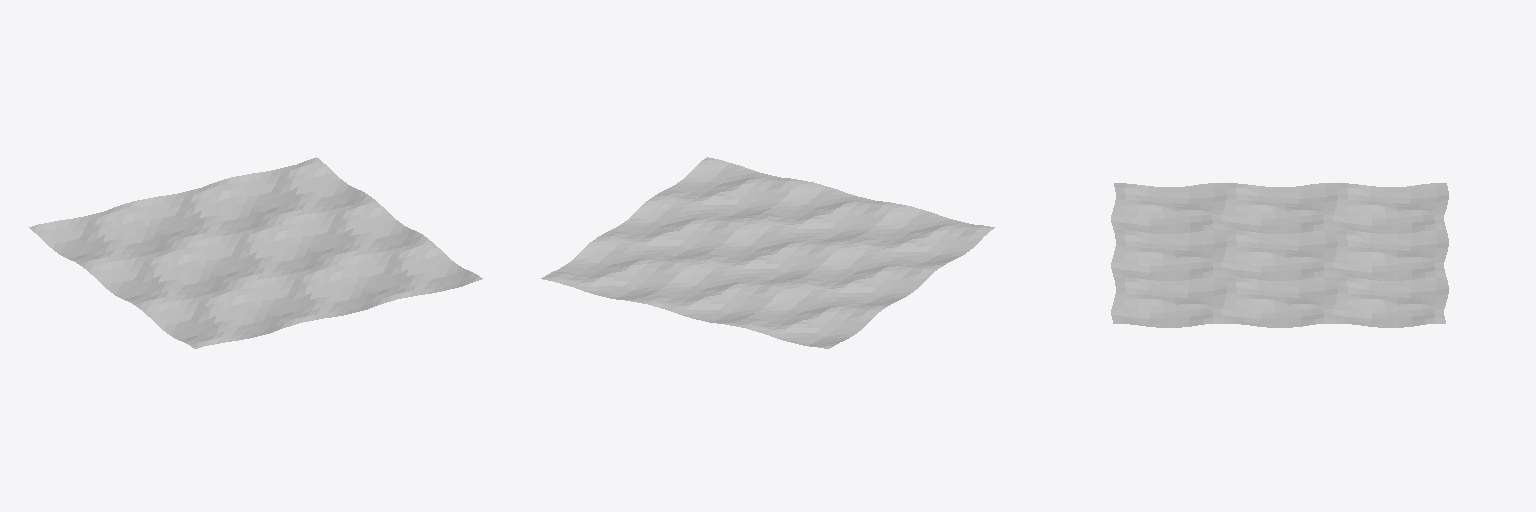
The model's file is ocean_000251.obj.
The picture shows the model from 3 angles: view 1: azimuth 30°, elevation 25°; view 2: azimuth 150°, elevation 25°; view 3: azimuth 270°, elevation 25°; orthographic projection.
Parts seen in each view (by area): view 1: Ocean_Plan.001; view 2: Ocean_Plan.001; view 3: Ocean_Plan.001.
Part boxes in pixels (bbox=[...]): Ocean_Plan.001: bbox=[29, 157, 482, 348]; Ocean_Plan.001: bbox=[541, 157, 994, 348]; Ocean_Plan.001: bbox=[1111, 183, 1448, 327].
Bounding box in the file's own units: 109188 × 2380 × 110589.